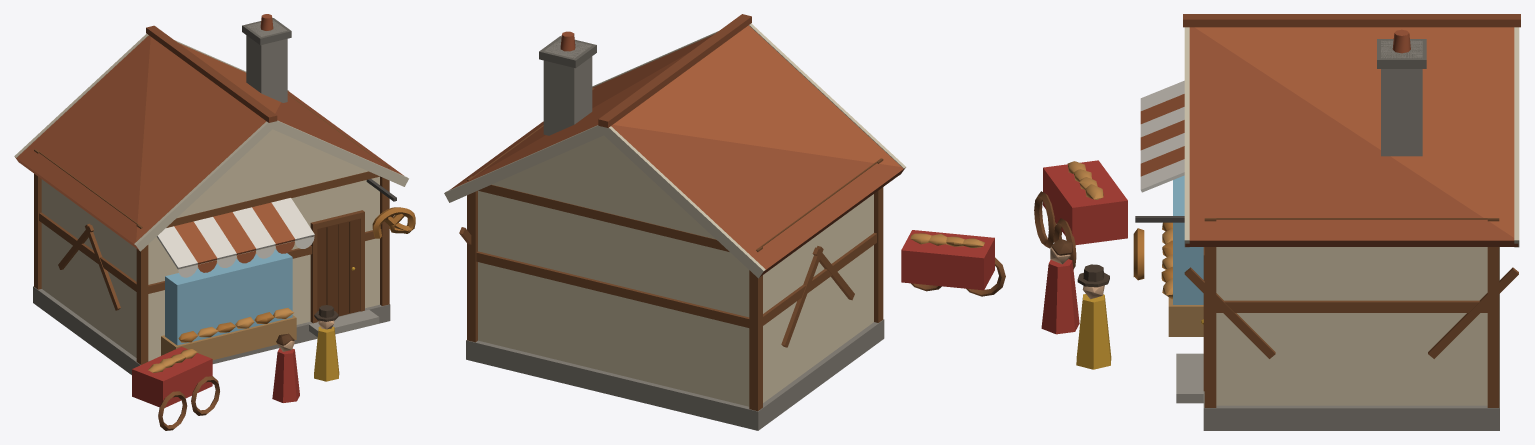
File: village_bakery.glb
3 views of the same model, side by side, from view 1: azimuth 30°, elevation 25°; view 2: azimuth 150°, elevation 25°; view 3: azimuth 270°, elevation 25° (orthographic). The views are drawn at different scales.
Visible parts, largest first — view 1: town-village_bakery; view 2: town-village_bakery; view 3: town-village_bakery.
Part boxes in pixels (x1,y1,x2,y2): town-village_bakery: (14, 14, 415, 430); town-village_bakery: (444, 14, 1005, 430); town-village_bakery: (1034, 14, 1520, 430).
Size of the model in its own units: 5.88 by 4.82 by 5.85.
